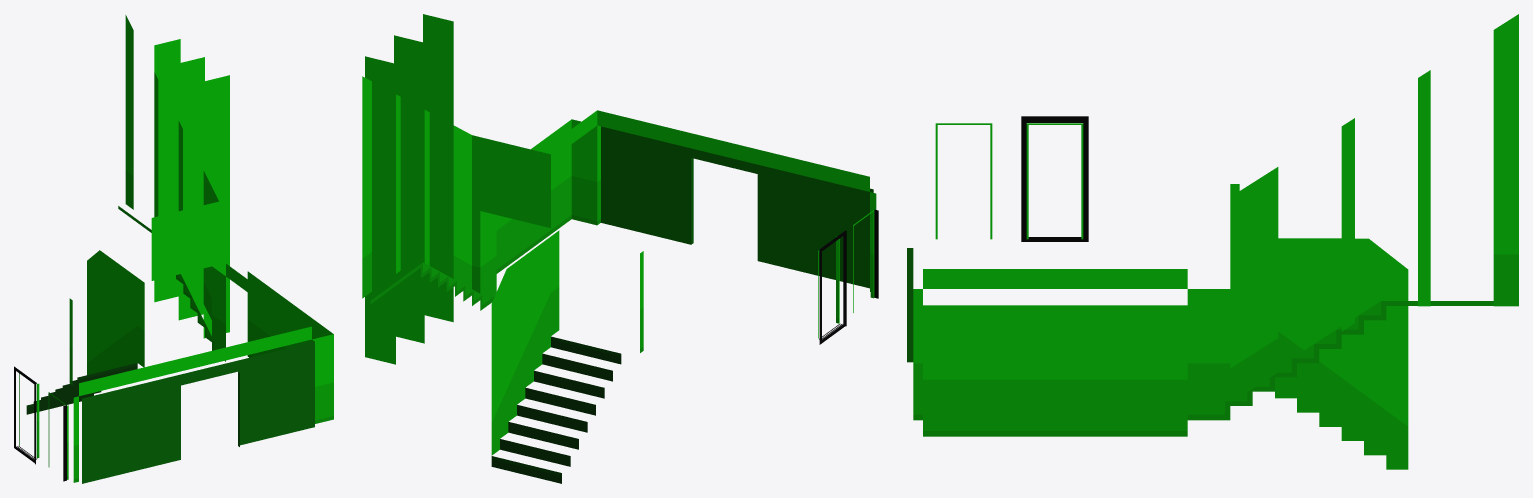
The model's file is patro2-chodbaKratka-altDrevenaStena.fbx.
3 renders of one model, left to right at view 1: azimuth 30°, elevation 25°; view 2: azimuth 150°, elevation 25°; view 3: azimuth 270°, elevation 25°, orthographic. The views are drawn at different scales.
Parts seen in each view (by area): view 1: ChodbaKratka.Front, ChodbaKratka.Right; view 2: ChodbaKratka.Front, ChodbaKratka.Right; view 3: ChodbaKratka.Right.
Part boxes in pixels (x1,y1,x2,y2): ChodbaKratka.Front: (26, 39, 333, 483); ChodbaKratka.Right: (14, 15, 333, 467); ChodbaKratka.Front: (365, 14, 878, 483); ChodbaKratka.Right: (362, 76, 874, 455); ChodbaKratka.Right: (907, 14, 1518, 469).
Size of the model in its own units: 784 by 920 by 970.
